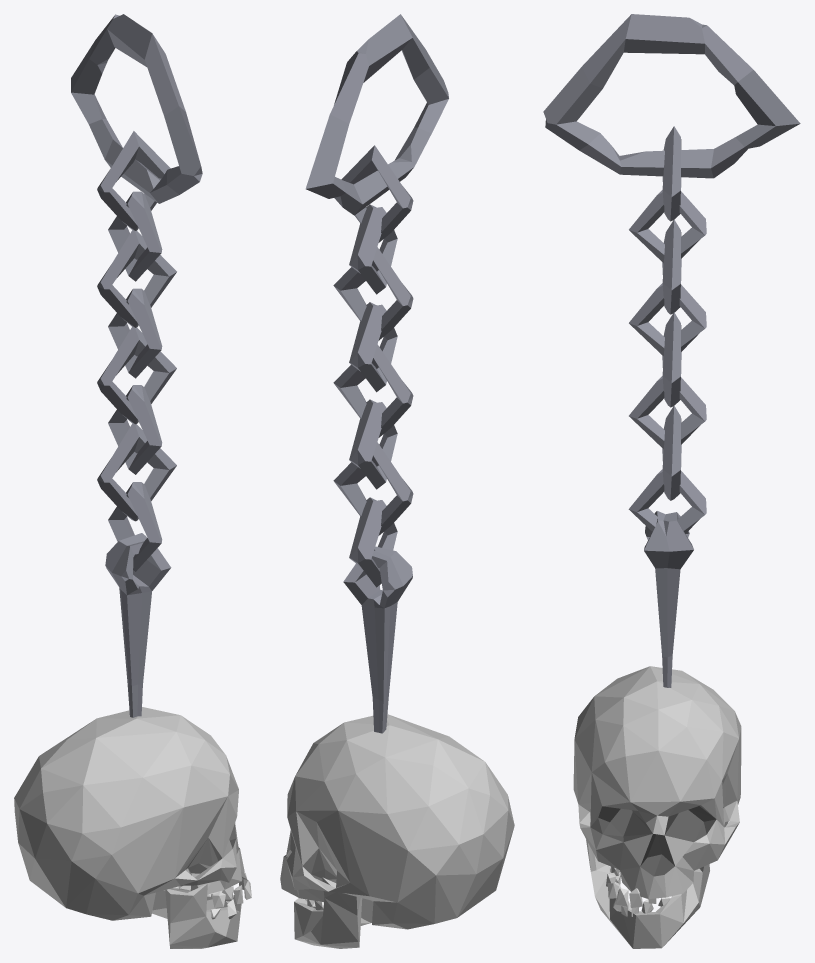
The model's file is HWN20_SkullChain_02.glb.
The picture shows the model from 3 angles, left to right: view 1: azimuth 30°, elevation 25°; view 2: azimuth 150°, elevation 25°; view 3: azimuth 270°, elevation 25°; orthographic projection. The views are drawn at different scales.
Parts seen in each view (by area): view 1: HWN20_SkullChain_02; view 2: HWN20_SkullChain_02; view 3: HWN20_SkullChain_02.
Part boxes in pixels (bbox=[...]): HWN20_SkullChain_02: bbox=[14, 14, 251, 948]; HWN20_SkullChain_02: bbox=[280, 14, 514, 948]; HWN20_SkullChain_02: bbox=[543, 14, 800, 948].
Size of what is drawn, in the model's own units: 0.3741 by 1.58 by 0.411.
Materials: 1 (1 with a texture image).
